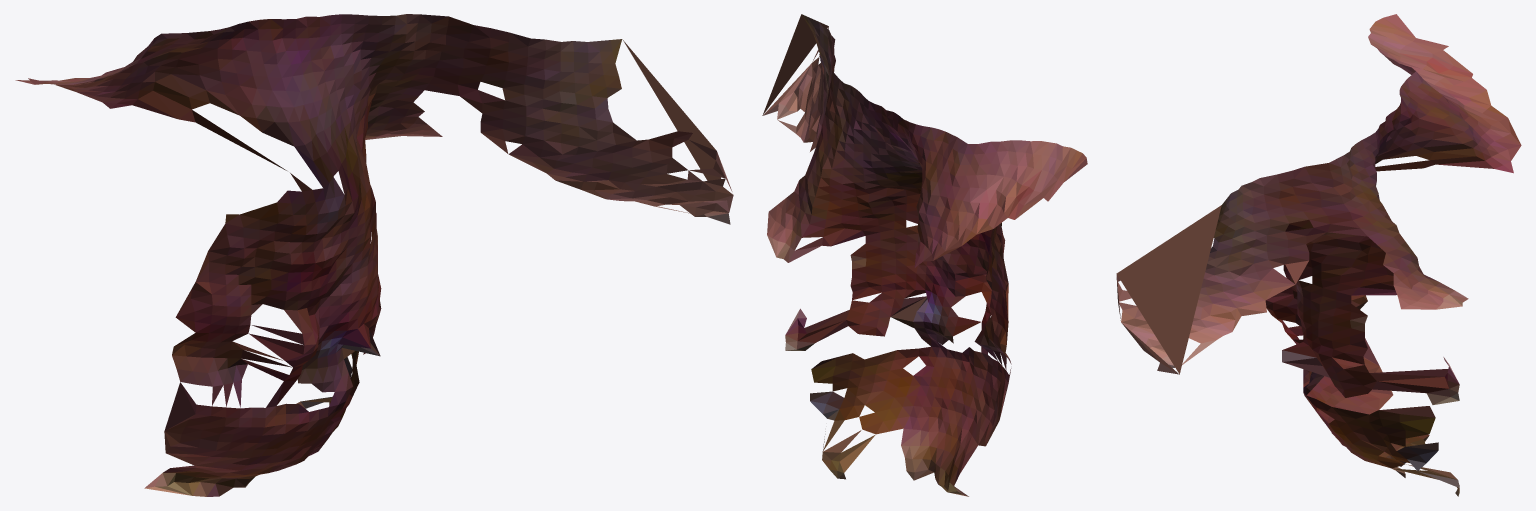
3 views of the same model, side by side, from view 1: azimuth 30°, elevation 25°; view 2: azimuth 150°, elevation 25°; view 3: azimuth 270°, elevation 25° (orthographic). The views are drawn at different scales.
Parts seen in each view (by area): view 1: ofMesh; view 2: ofMesh; view 3: ofMesh.
Boxes of the visible parts, x1,y1,x2,y2 form: ofMesh: [15, 14, 733, 496]; ofMesh: [762, 14, 1087, 496]; ofMesh: [1116, 14, 1521, 496].
Size of the model in its own units: 348 by 276 by 269.
Materials: 1 (1 with a texture image).
